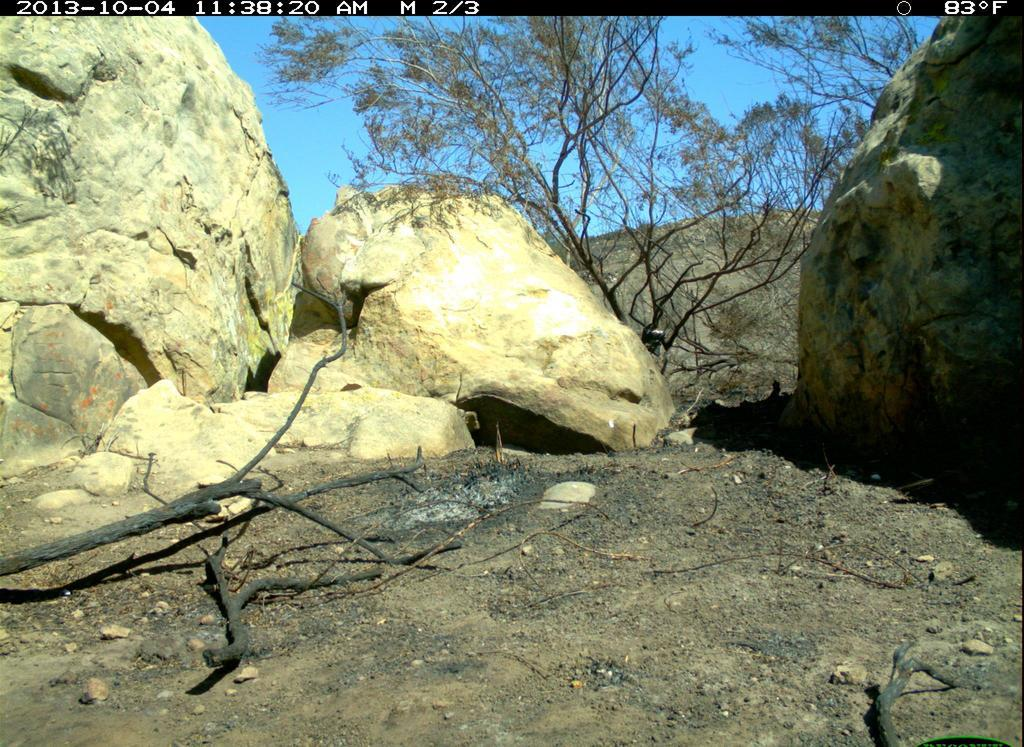bird: (639, 323, 674, 354)
